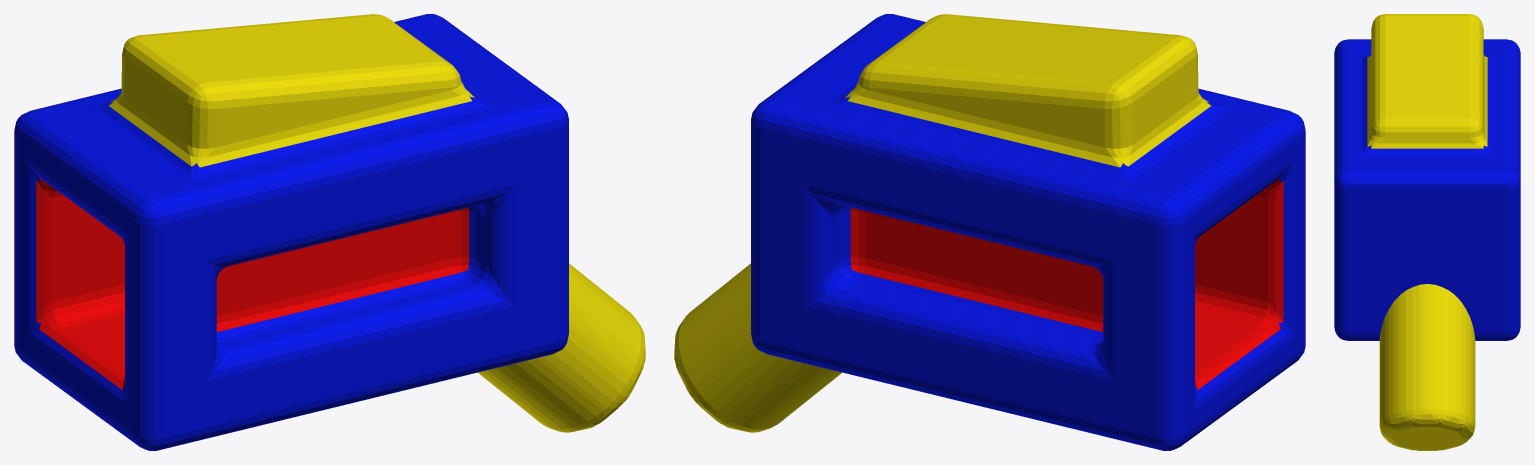
File: Scanner.fbx
The picture shows the model from 3 angles, left to right: view 1: azimuth 30°, elevation 25°; view 2: azimuth 150°, elevation 25°; view 3: azimuth 270°, elevation 25°; orthographic projection. The views are drawn at different scales.
Parts seen in each view (by area): view 1: Scanner; view 2: Scanner; view 3: Scanner.
Part boxes in pixels (x1,y1,x2,y2): Scanner: (14,14,645,450); Scanner: (674,14,1305,450); Scanner: (1334,14,1520,450).
Size of the model in its own units: 55.84 by 43.9 by 24.
